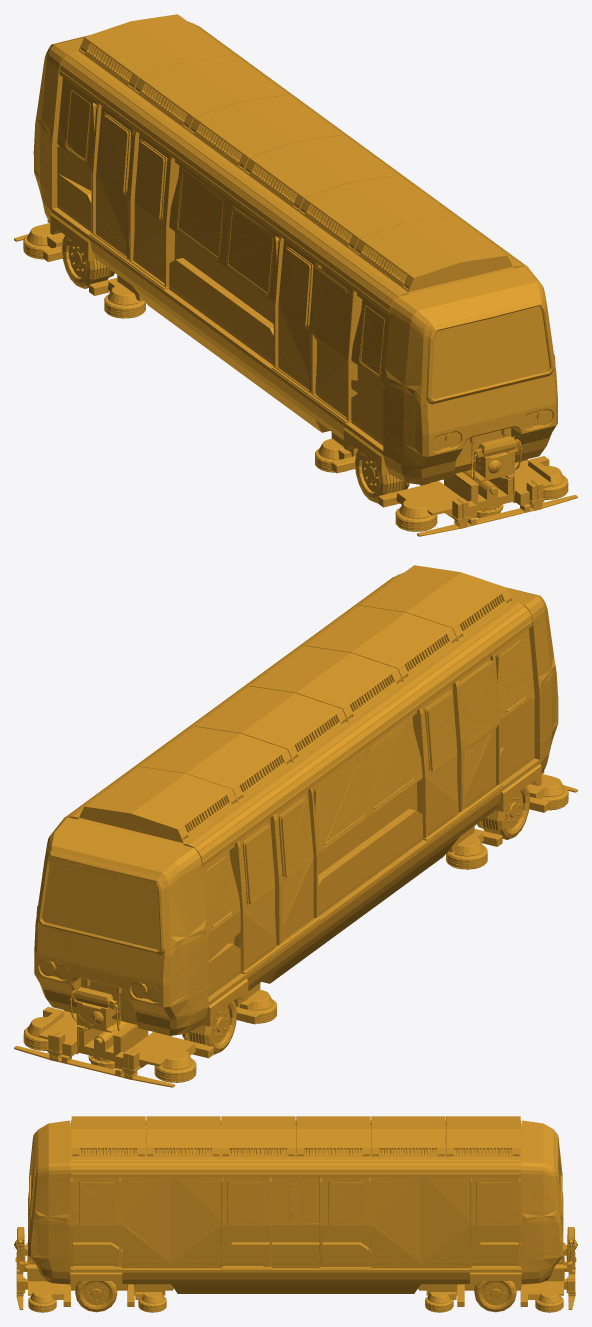
The model's file is taipei_mrt_3dbuilder2(gold).glb.
3 views of the same model, one above another, from view 1: azimuth 30°, elevation 25°; view 2: azimuth 150°, elevation 25°; view 3: azimuth 270°, elevation 25° (orthographic). The views are drawn at different scales.
Visible parts, largest first — view 1: 78826028-75df-461c-bcc9-d5ea47dae9d2; view 2: 78826028-75df-461c-bcc9-d5ea47dae9d2; view 3: 78826028-75df-461c-bcc9-d5ea47dae9d2.
Boxes of the visible parts, box(x1,y1,x2,y2) form: 78826028-75df-461c-bcc9-d5ea47dae9d2: box(14, 14, 577, 536); 78826028-75df-461c-bcc9-d5ea47dae9d2: box(14, 565, 577, 1087); 78826028-75df-461c-bcc9-d5ea47dae9d2: box(14, 1116, 577, 1312).
Bounding box in the file's own units: 0.4093 × 0.55 × 1.76.
